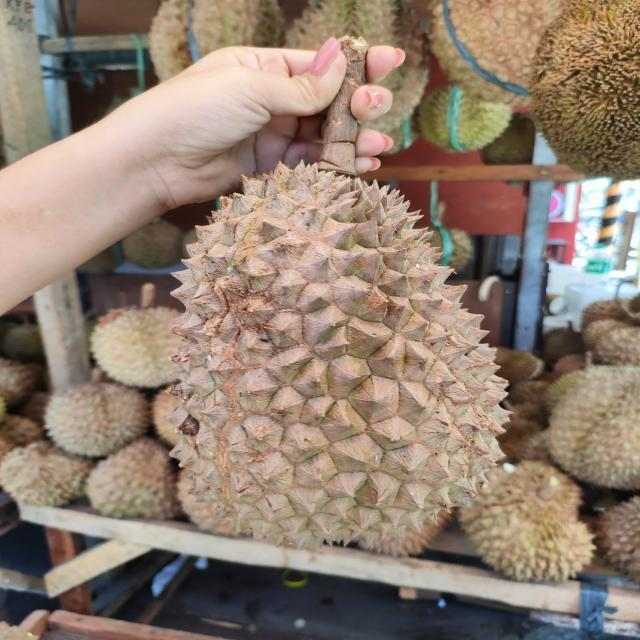mature: (162, 159, 512, 553)
